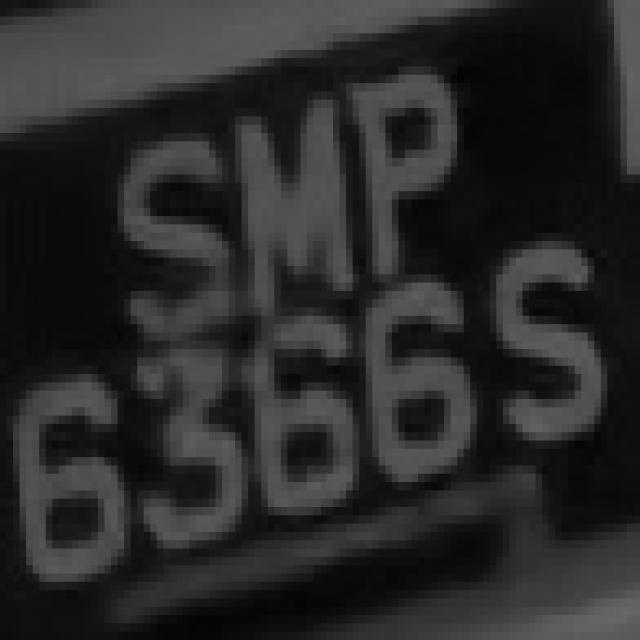3: (118, 316, 242, 548)
6: (7, 366, 144, 632), (352, 266, 490, 524), (248, 324, 359, 524)
M: (222, 75, 359, 341)
P: (333, 50, 457, 258)
S: (91, 108, 216, 349), (483, 241, 601, 474)
